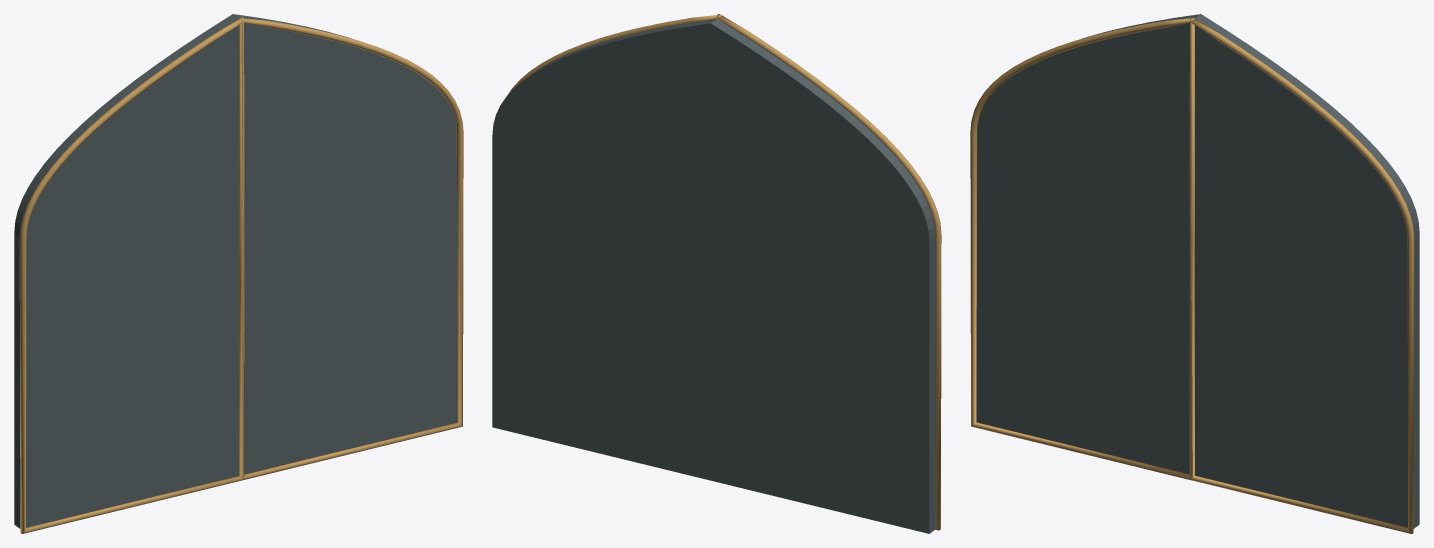
File: Door-Leaves.glb
3 renders of one model, left to right at view 1: azimuth 30°, elevation 25°; view 2: azimuth 150°, elevation 25°; view 3: azimuth 330°, elevation 25°, orthographic.
Visible parts, largest first — view 1: Leaf -1 Patinated Iron, Leaf 1 Patinated Iron, Leaf -1 Aged Gold, Leaf 1 Aged Gold; view 2: Leaf -1 Patinated Iron, Leaf 1 Patinated Iron, Leaf -1 Aged Gold, Leaf 1 Aged Gold; view 3: Leaf 1 Patinated Iron, Leaf -1 Patinated Iron, Leaf 1 Aged Gold, Leaf -1 Aged Gold.
Boxes of the visible parts, x1,y1,x2,y2 form: Leaf -1 Patinated Iron: (14, 14, 238, 528); Leaf 1 Patinated Iron: (233, 14, 457, 474); Leaf -1 Aged Gold: (19, 17, 244, 533); Leaf 1 Aged Gold: (239, 18, 463, 480); Leaf -1 Patinated Iron: (711, 19, 935, 533); Leaf 1 Patinated Iron: (492, 19, 716, 480); Leaf -1 Aged Gold: (717, 14, 941, 530); Leaf 1 Aged Gold: (508, 14, 721, 94); Leaf 1 Patinated Iron: (1195, 14, 1419, 528); Leaf -1 Patinated Iron: (976, 14, 1200, 474); Leaf 1 Aged Gold: (1189, 17, 1414, 533); Leaf -1 Aged Gold: (970, 18, 1194, 480).
Bounding box in the file's own units: 1.01 × 1.01 × 0.0415.
